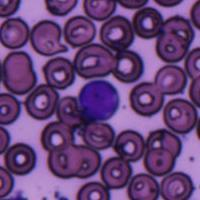L: (78, 78, 120, 122)
